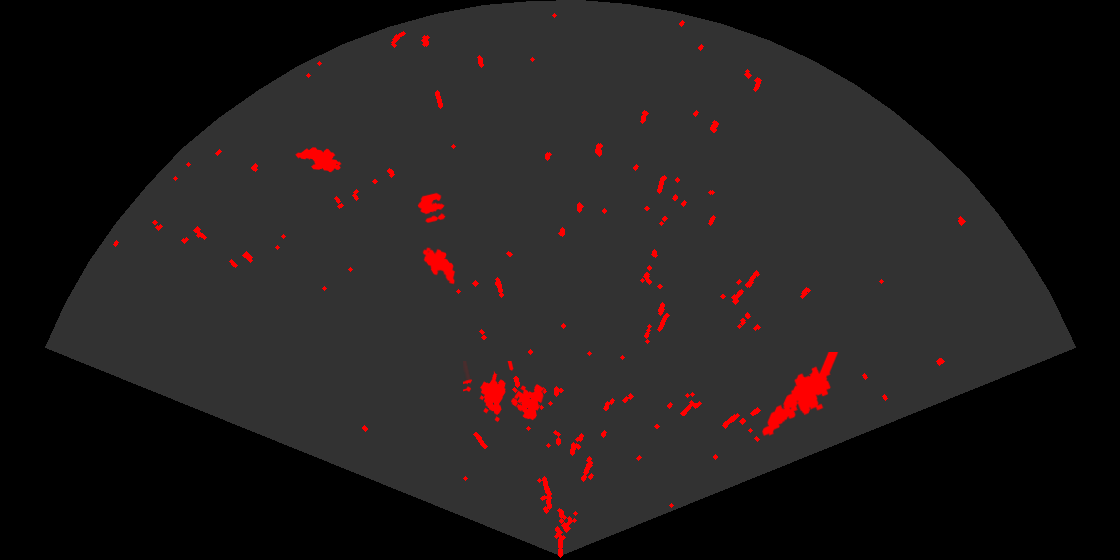AUV: (421, 246, 457, 286), (294, 146, 343, 174)
ball: (416, 191, 447, 225)
cage: (463, 361, 545, 424)
frogman: (760, 352, 840, 438)
